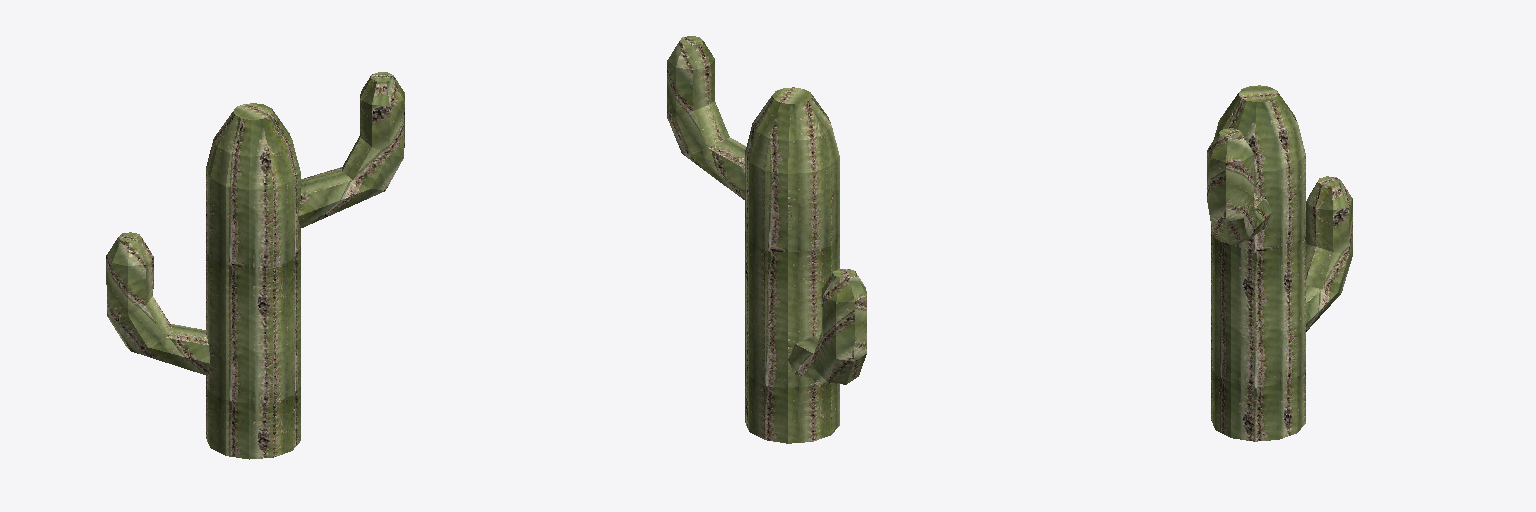
3 views of the same model, side by side, from view 1: azimuth 30°, elevation 25°; view 2: azimuth 150°, elevation 25°; view 3: azimuth 270°, elevation 25° (orthographic).
Parts seen in each view (by area): view 1: cactus1; view 2: cactus1; view 3: cactus1.
Part boxes in pixels (x1,y1,x2,y2): cactus1: (106, 72, 404, 459); cactus1: (667, 36, 866, 443); cactus1: (1207, 85, 1352, 441).
Size of the model in its own units: 4.69 by 6.34 by 2.43.
Materials: 1 (1 with a texture image).